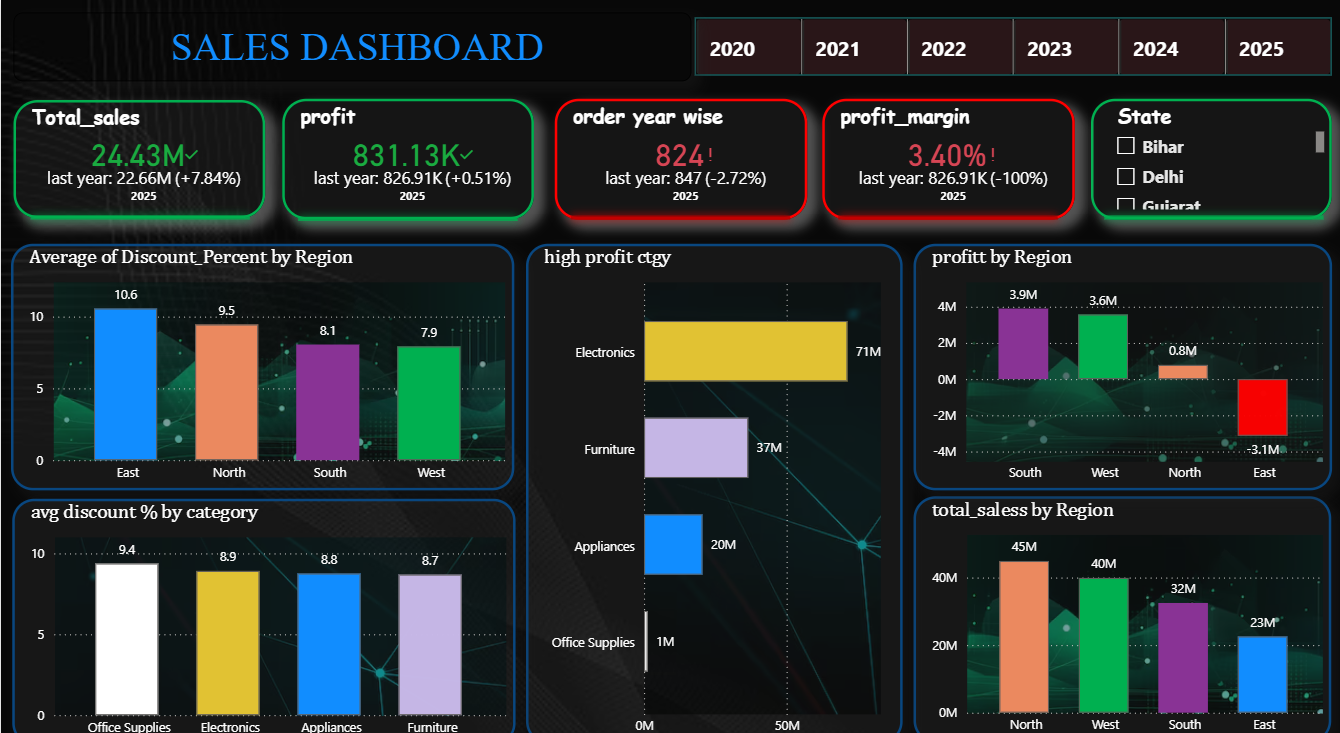

The page's visual inventory and layout, read from the dashboard file:
{"tool":"powerbi","page":{"name":"Page 1","canvas":[1280,720],"ordinal":0},"visuals":[{"type":"kpi","title":"Total_sales","fields":{"Indicator":["sales_project mainsales2.total_saless"],"TrendLine":["Date.Yearr"],"Goal":["sales_project mainsales2.Previous Month Sales"]},"box":[12.5,95,240,112.5],"z":0},{"type":"kpi","title":"profit","fields":{"TrendLine":["Date.Yearr"],"Indicator":["sales_project mainsales2.profitt"],"Goal":["sales_project mainsales2.Previous Month profit"]},"box":[268.4,94.7,239.7,114.8],"z":1000},{"type":"advancedSlicerVisual","fields":{"Values":["Date.Yearr"]},"box":[657.3,11.4,623,65.7],"z":2000},{"type":"kpi","title":"order year wise ","fields":{"Indicator":["sales_project mainsales2.total_orders"],"Goal":["sales_project mainsales2.Previous Year Orders"],"TrendLine":["Date.Yearr"]},"box":[528.2,94.7,241.1,114.8],"z":3000},{"type":"slicer","fields":{"Values":["sales_project mainsales2.State"]},"box":[1039.2,94.7,229.6,114.8],"z":4000},{"type":"kpi","title":"profit_margin ","fields":{"Indicator":["sales_project mainsales2.profit_margin"],"TrendLine":["Date.Yearr"],"Goal":["sales_project mainsales2.Previous Month profit"]},"box":[783.7,94.7,241.1,114.8],"z":5000},{"type":"columnChart","fields":{"Category":["sales_project mainsales2.Region"],"Y":["sales_project mainsales2.total_saless"]},"box":[870,473.8,398.8,235],"z":6000},{"type":"columnChart","fields":{"Category":["sales_project mainsales2.Region"],"Y":["sales_project mainsales2.profitt"]},"box":[869.8,232.5,399,235.4],"z":7000},{"type":"columnChart","fields":{"Category":["sales_project mainsales2.Region"],"Y":["Avg(sales_project mainsales2.Discount_Percent)"]},"box":[10,232.5,480,235],"z":8000},{"type":"clusteredBarChart","title":"high profit ctgy","fields":{"Category":["sales_project products.Product_Category"],"Y":["Sum(sales_project mainsales2.diff  cost & profit)"]},"box":[500.9,232.5,358.8,476.5],"z":9000},{"type":"clusteredColumnChart","title":"avg discount % by category ","fields":{"Y":["Avg(sales_project mainsales2.Discount_Percent)"],"Category":["sales_project products.Product_Category"]},"box":[10.6,475.7,480,235],"z":10000},{"type":"shape","box":[20,182.5,225,50],"z":11000},{"type":"shape","box":[535.4,182.3,225.3,50.2],"z":12000},{"type":"shape","box":[275.6,183.7,225.3,50.2],"z":13000},{"type":"textbox","box":[11.9,11.9,646.1,65.6],"z":14000},{"type":"shape","box":[790.9,182.3,225.3,50.2],"z":15000},{"type":"shape","box":[1043.8,182.5,225,50],"z":16000}]}

Visuals, with their boxes in screenshot pixels (x1, y1, x2, y2), scaled from the page's 1280x720 canvas onto the 1340x733 screenshot:
"Total_sales" kpi: l=13, t=97, r=264, b=211
"profit" kpi: l=281, t=96, r=532, b=213
advancedSlicerVisual - Date.Yearr: l=688, t=12, r=1339, b=78
"order year wise " kpi: l=553, t=96, r=805, b=213
slicer - sales_project mainsales2.State: l=1088, t=96, r=1328, b=213
"profit_margin " kpi: l=820, t=96, r=1073, b=213
columnChart - sales_project mainsales2.Region x sales_project mainsales2.total_saless: l=911, t=482, r=1328, b=722
columnChart - sales_project mainsales2.Region x sales_project mainsales2.profitt: l=911, t=237, r=1328, b=476
columnChart - sales_project mainsales2.Region x Avg(sales_project mainsales2.Discount_Percent): l=10, t=237, r=513, b=476
"high profit ctgy" clusteredBarChart: l=524, t=237, r=900, b=722
"avg discount % by category " clusteredColumnChart: l=11, t=484, r=514, b=724
shape: l=21, t=186, r=256, b=237
shape: l=560, t=186, r=796, b=237
shape: l=289, t=187, r=524, b=238
textbox: l=12, t=12, r=689, b=79
shape: l=828, t=186, r=1064, b=237
shape: l=1093, t=186, r=1328, b=237
